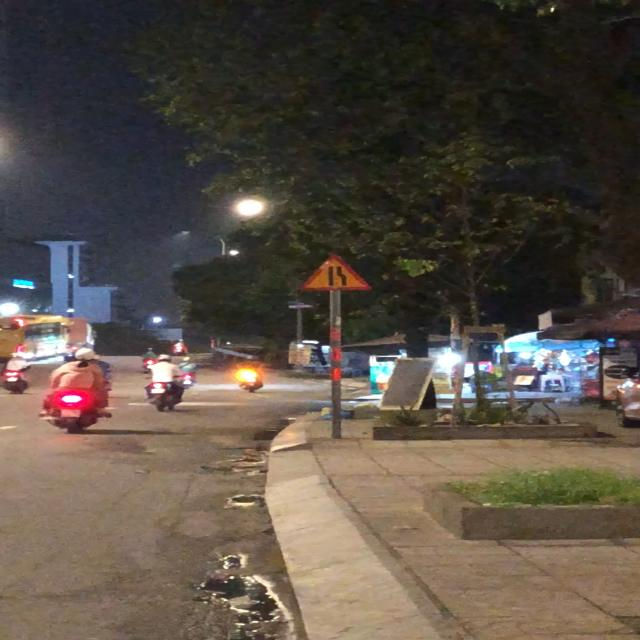Bien bao duong bi thu hep: (295, 251, 378, 293)
